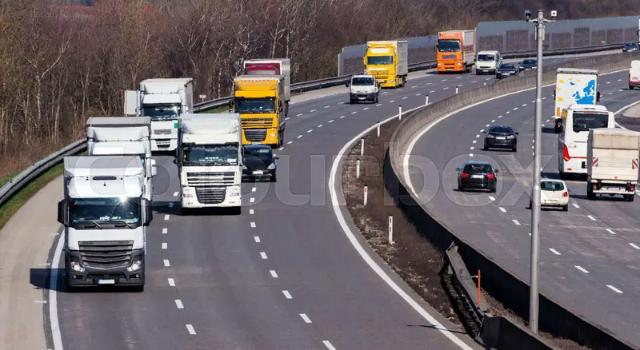bus: (557, 103, 613, 179), (475, 50, 503, 76)
car: (240, 143, 277, 183), (456, 160, 497, 193), (530, 180, 569, 212), (483, 124, 519, 152), (347, 74, 380, 104), (496, 63, 521, 79), (519, 59, 538, 70)
truck: (59, 150, 154, 289), (174, 111, 244, 213), (133, 78, 198, 154), (231, 74, 290, 147), (585, 128, 640, 201), (85, 116, 154, 171), (554, 68, 600, 134), (362, 40, 408, 90), (437, 29, 477, 76)
